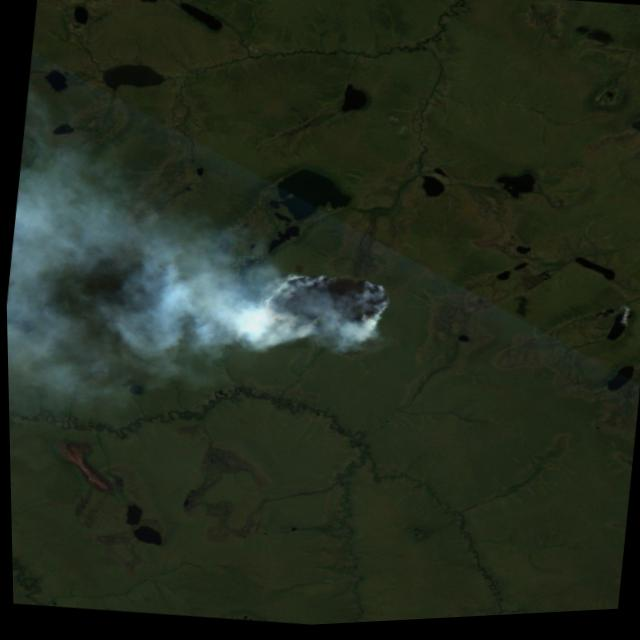fire: (255, 263, 397, 344)
